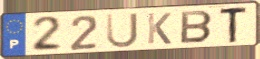2: (30, 15, 64, 54), (68, 14, 101, 52)
B: (179, 10, 215, 45)
K: (145, 12, 173, 46)
T: (218, 5, 250, 45)
U: (104, 11, 140, 49)
